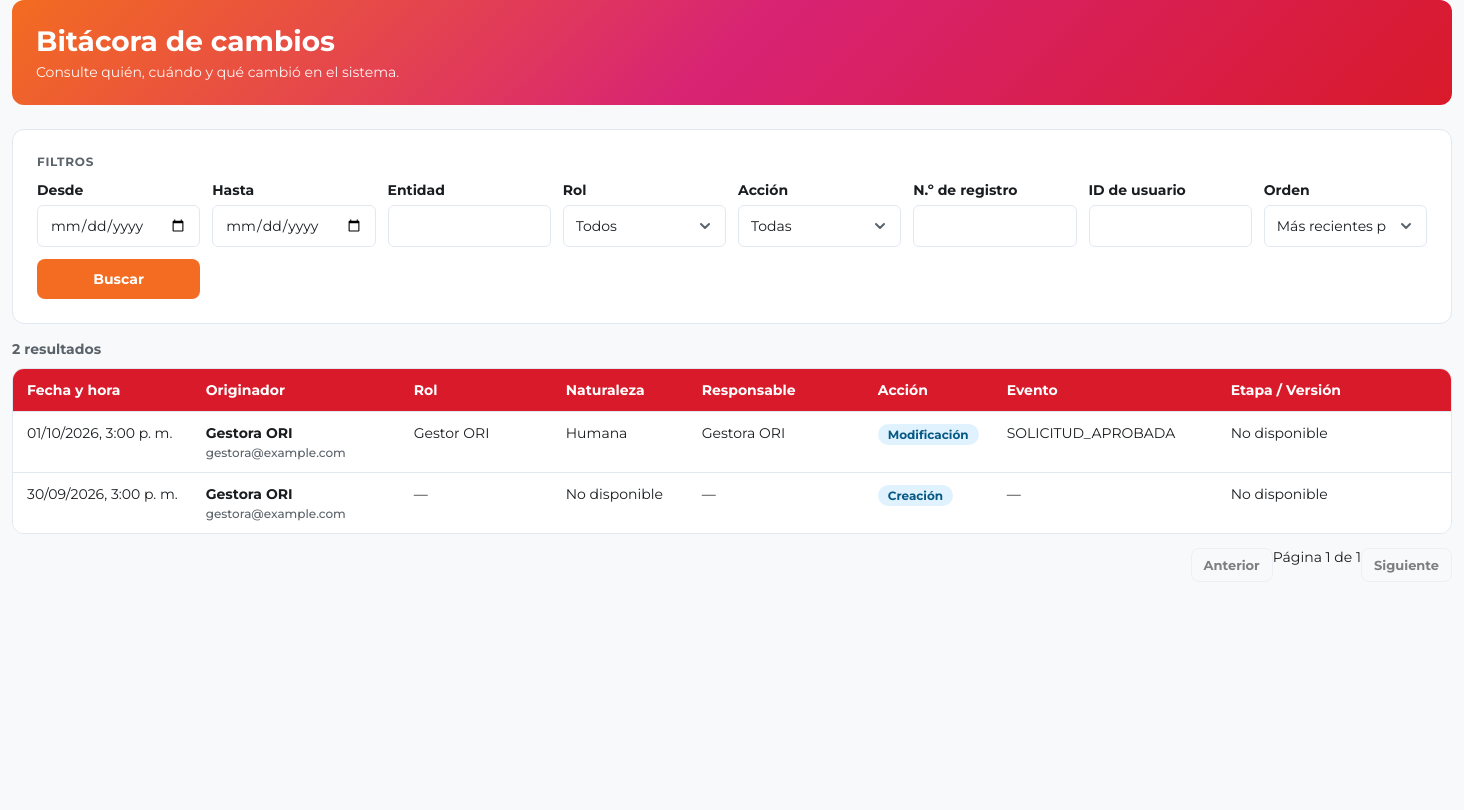
Test: BitacoraPage › deshabilita Buscar si el rango de fechas está invertido
Expected: the table named "Bitácora de cambios" is shown, [13,369,1452,533]
Step 1. Type "2026-10-05" into the date field labelled "Desde" → (119, 226), box [37,205,200,247]
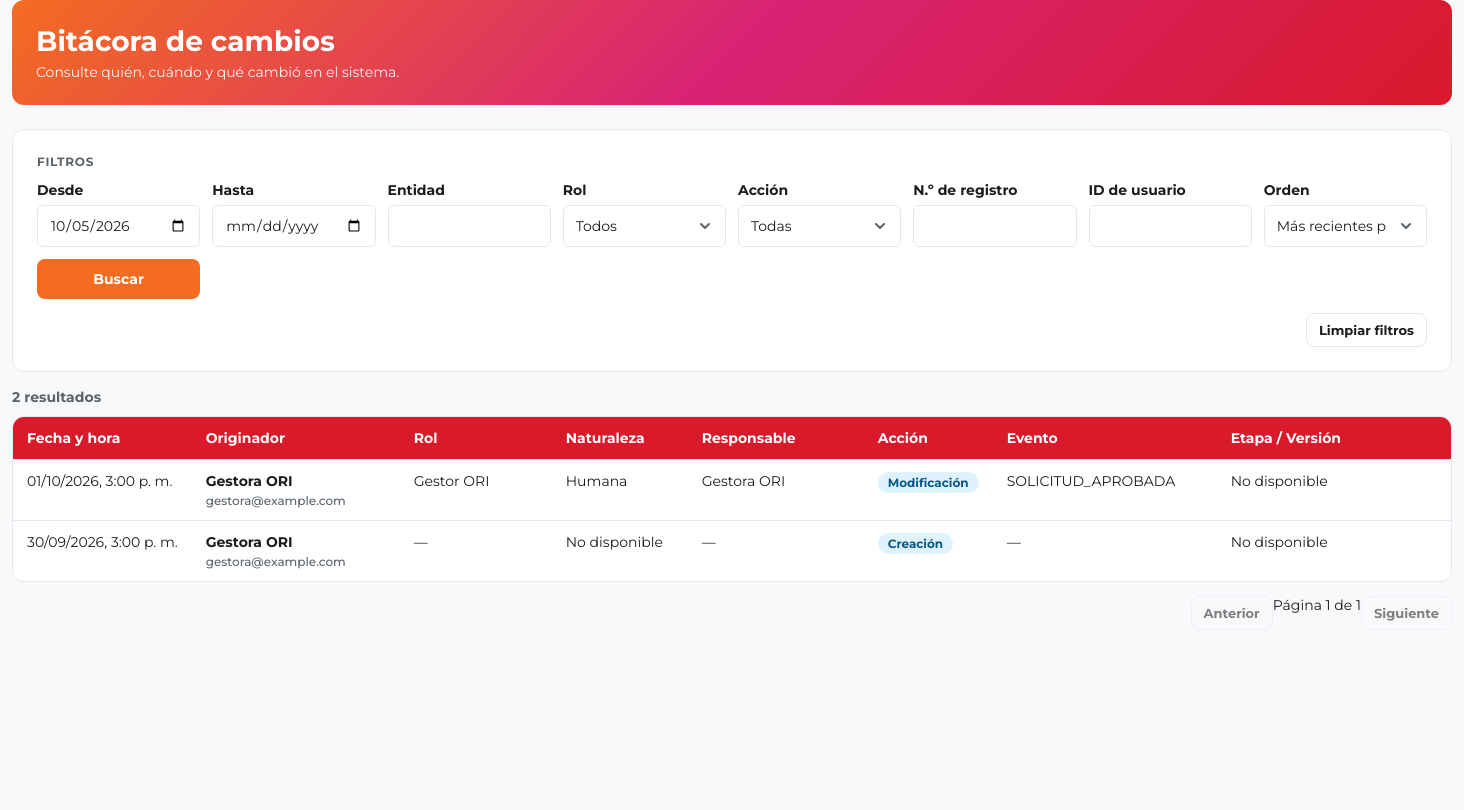
Step 2. Type "2026-10-01" into the date field labelled "Hasta" → (294, 226), box [212,205,376,247]
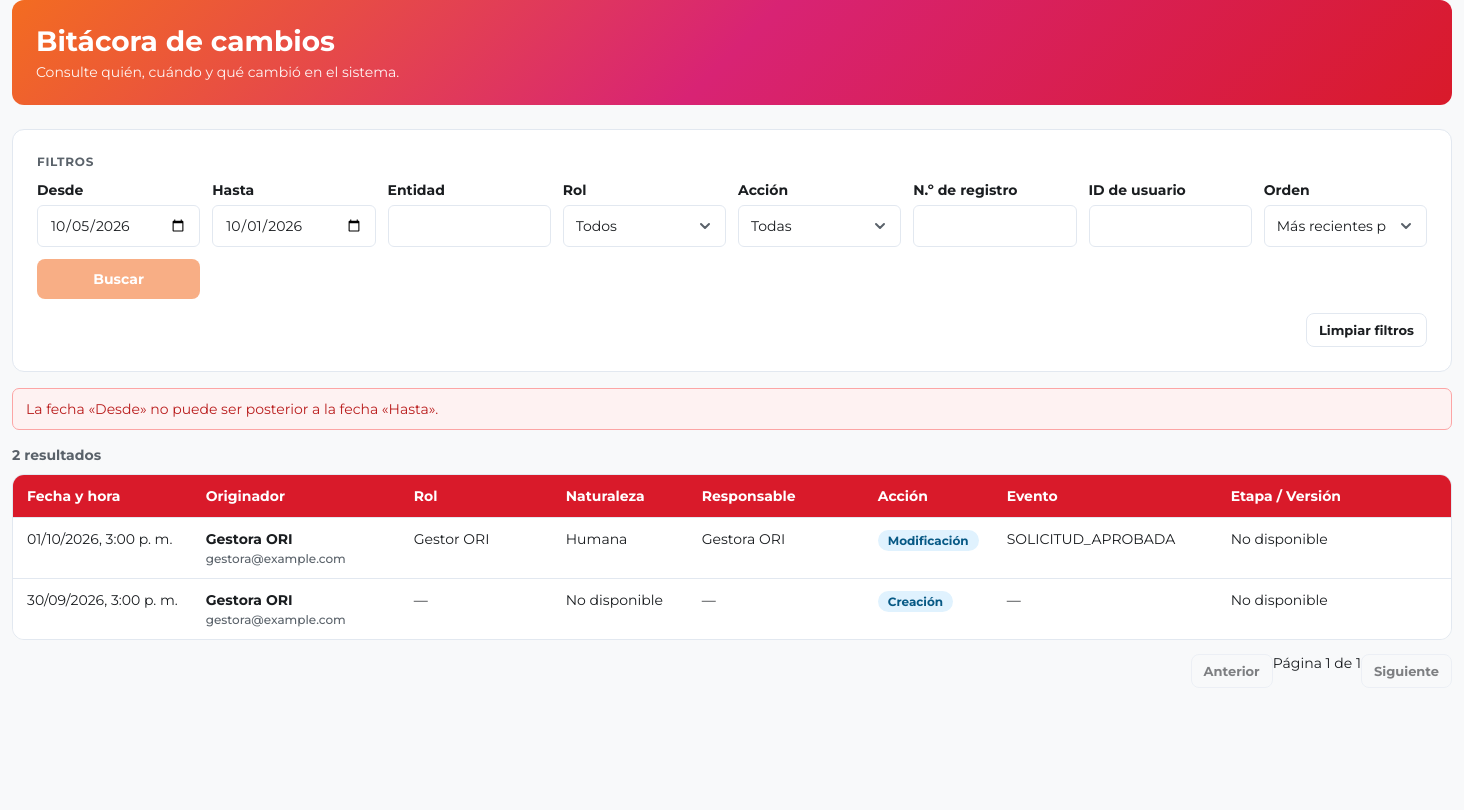
Expected: the message shows "no puede ser posterior", [26,400,438,418]
Expected: the button "Buscar" is disabled, [37,259,200,299]
